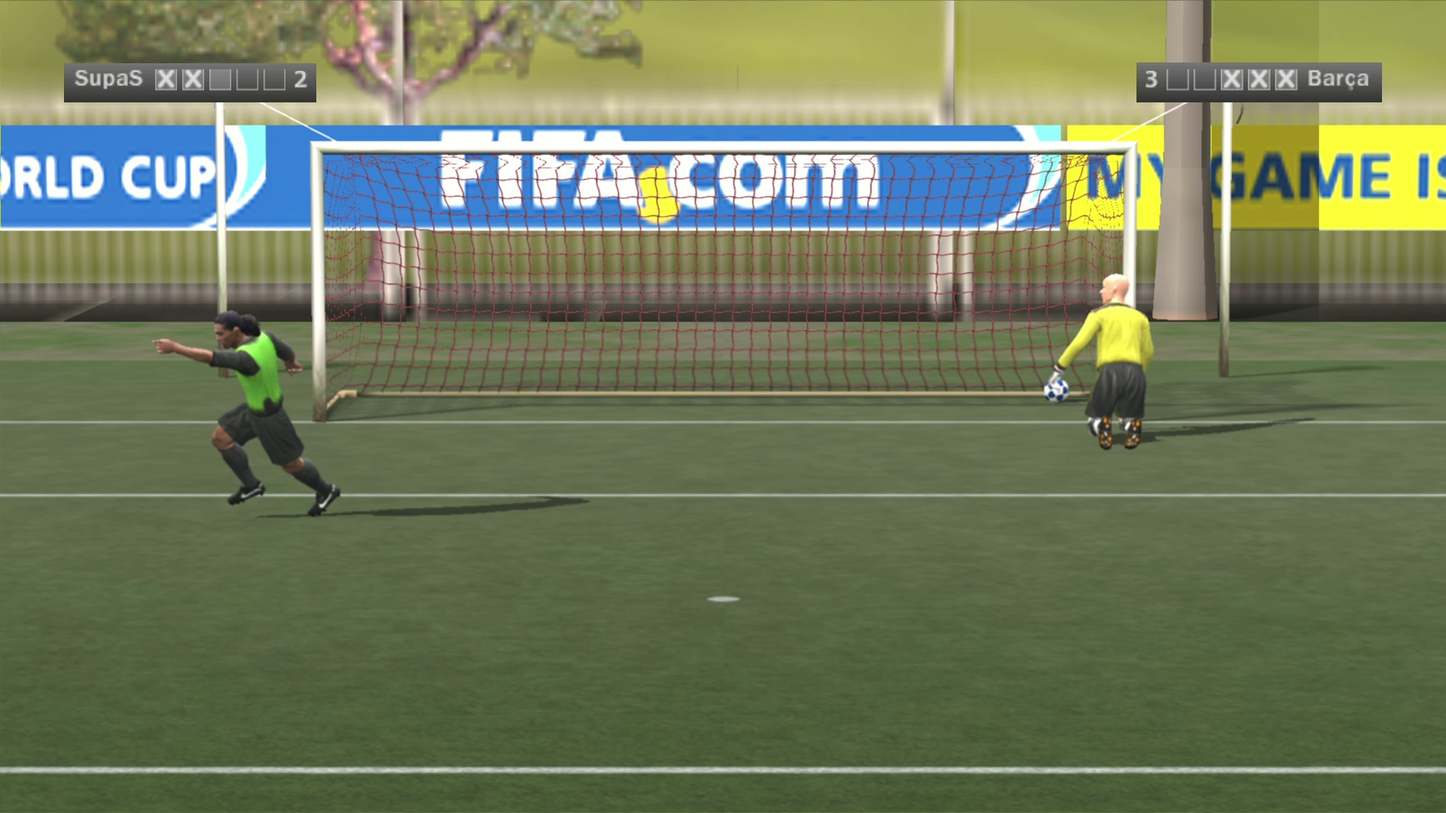ball: (1024, 356, 1055, 385)
goal_post: (0, 24, 724, 287)
keeper: (1040, 191, 1117, 359)
kicker: (118, 218, 260, 413)
